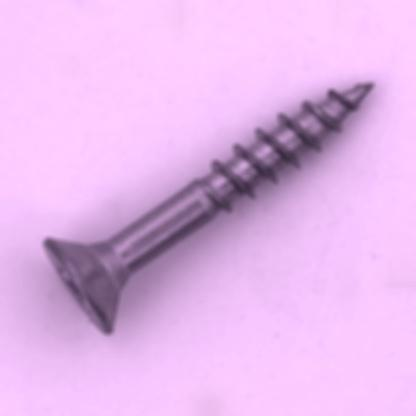metal: (41, 78, 375, 334)
